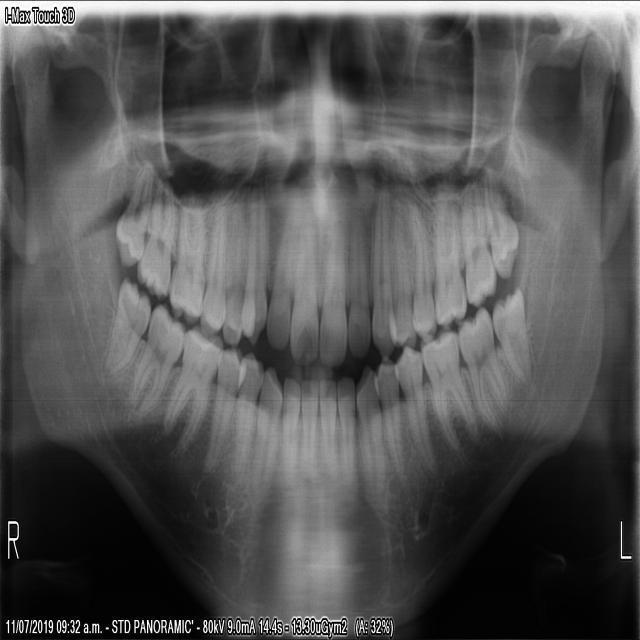LCD: (352, 354, 387, 499)
LCU: (368, 177, 396, 360)
LID: (315, 369, 339, 494), (332, 368, 356, 488)
LIU: (316, 206, 347, 374), (344, 201, 370, 368)
LMD: (416, 321, 482, 475), (455, 300, 513, 436), (487, 277, 534, 394)
LMU: (477, 150, 521, 282), (430, 177, 467, 328), (458, 171, 498, 310)
LPMD: (390, 337, 442, 481), (371, 346, 407, 493)
LPMU: (401, 184, 439, 344), (386, 202, 416, 352)
RCD: (245, 357, 284, 511)
RCU: (236, 176, 269, 347)
RID: (275, 366, 301, 506), (298, 367, 318, 489)
RIU: (261, 191, 299, 354), (285, 198, 320, 370)
RMD: (157, 318, 224, 464), (119, 295, 186, 429), (94, 268, 152, 386)
RMU: (166, 186, 208, 328), (134, 173, 176, 303), (112, 148, 155, 273)
RPMD: (193, 342, 248, 486), (225, 344, 265, 508)
RPMU: (218, 189, 255, 351), (196, 199, 230, 341)
